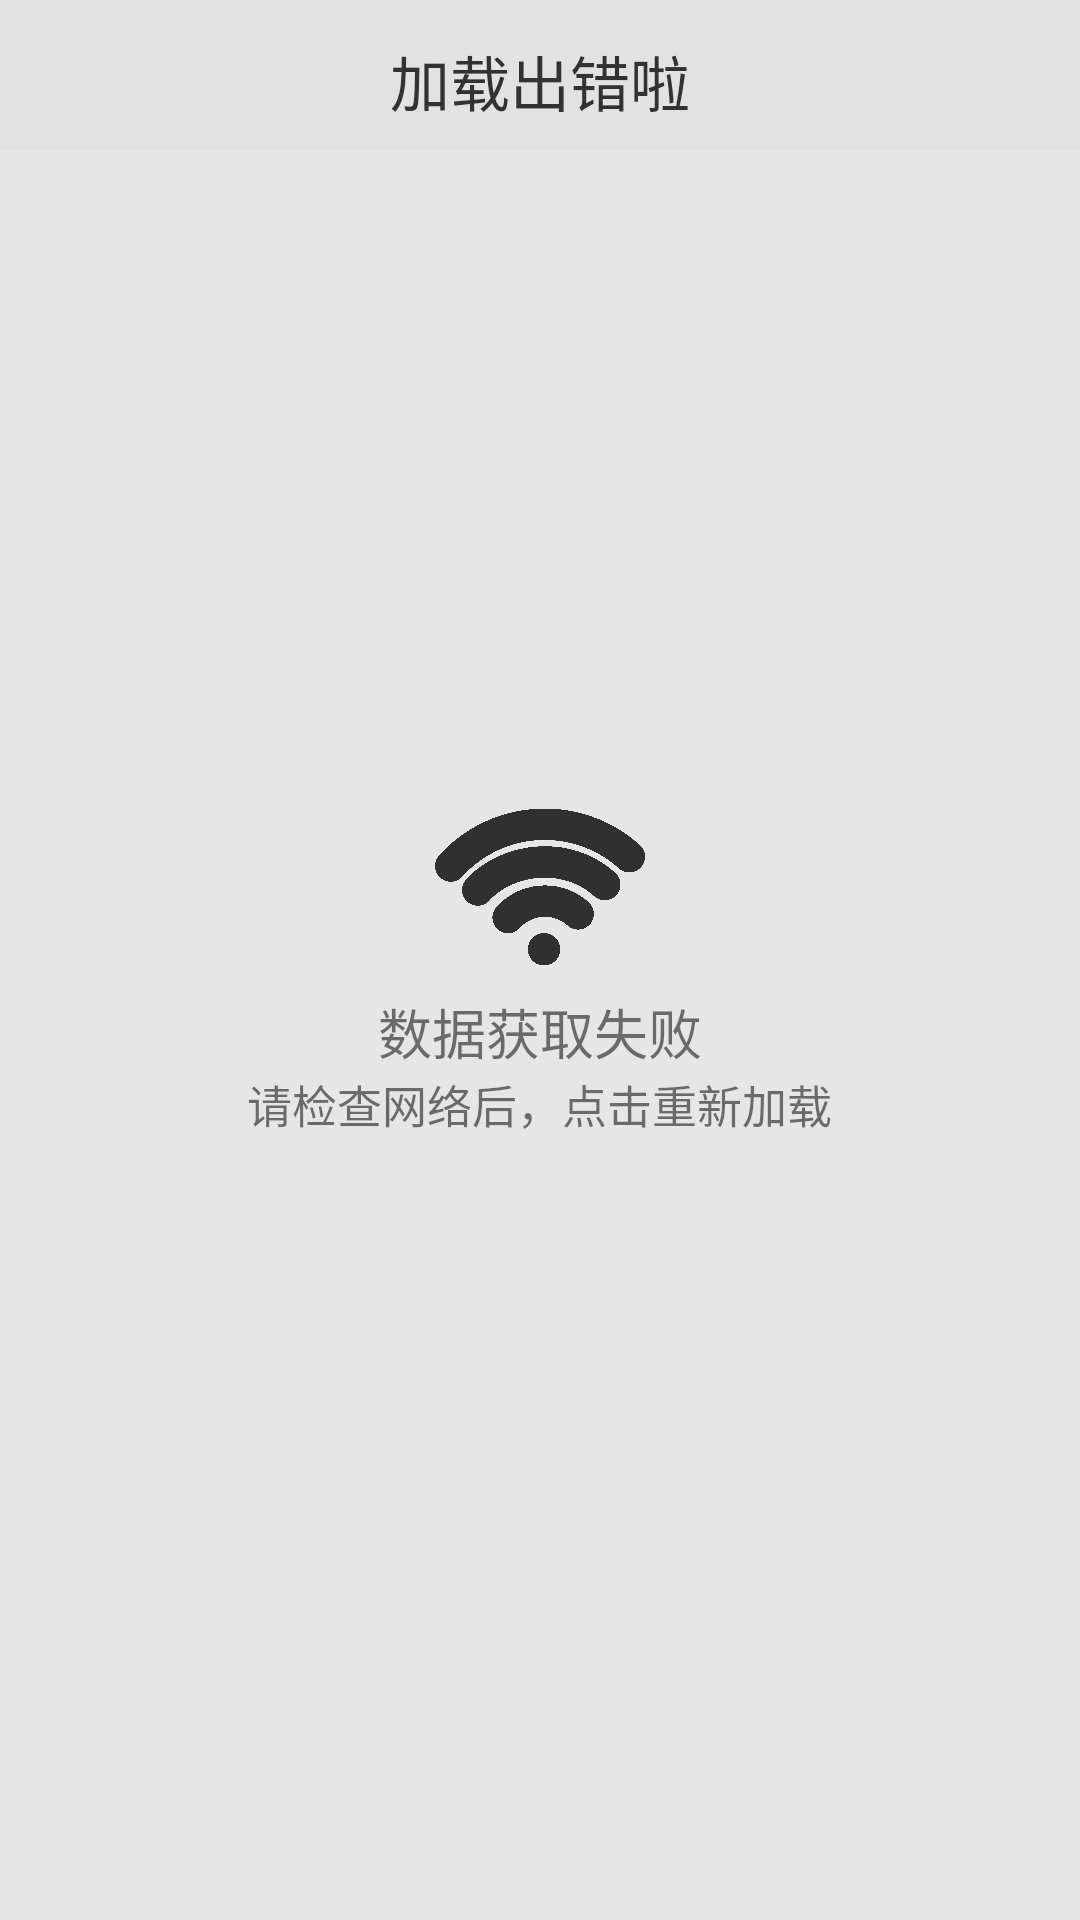

Icons on this 1080 x 1920 Android screen, each with its box as BBox(x1, y1, x2, y2):
wifi: BBox(435, 809, 645, 965)
